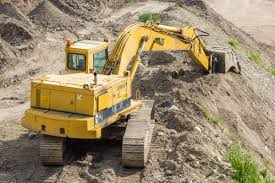excavator: (28, 23, 244, 174)
